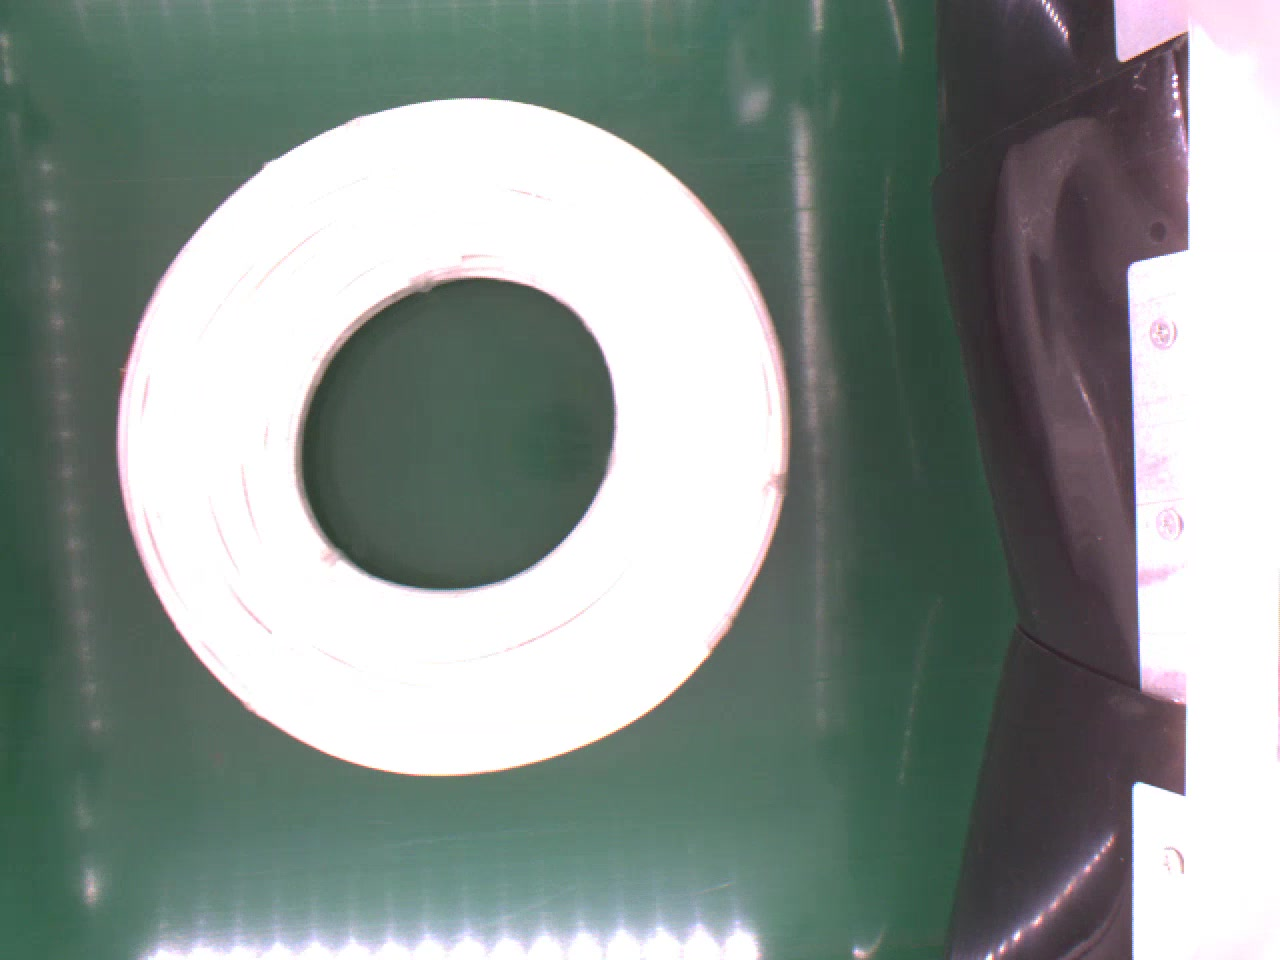white: (115, 100, 799, 793)
